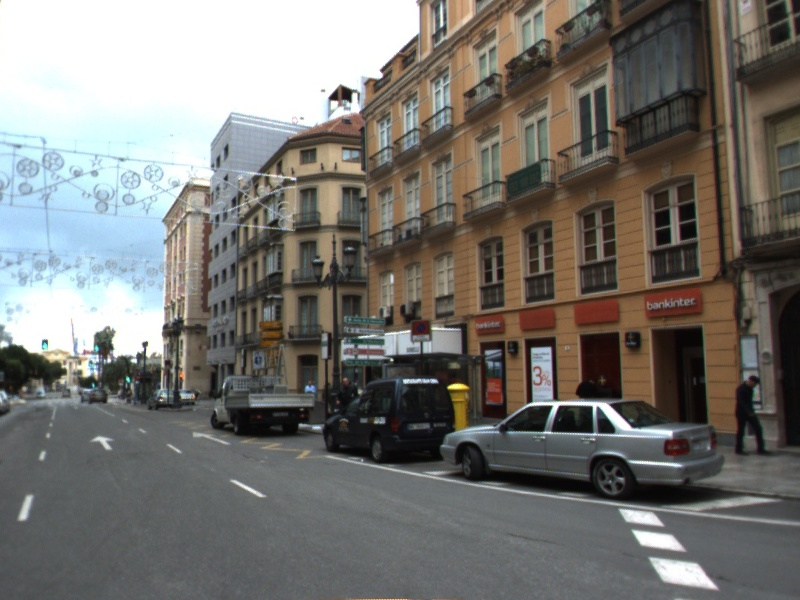STRAIGHT: (190, 429, 234, 447), (87, 433, 117, 452)
